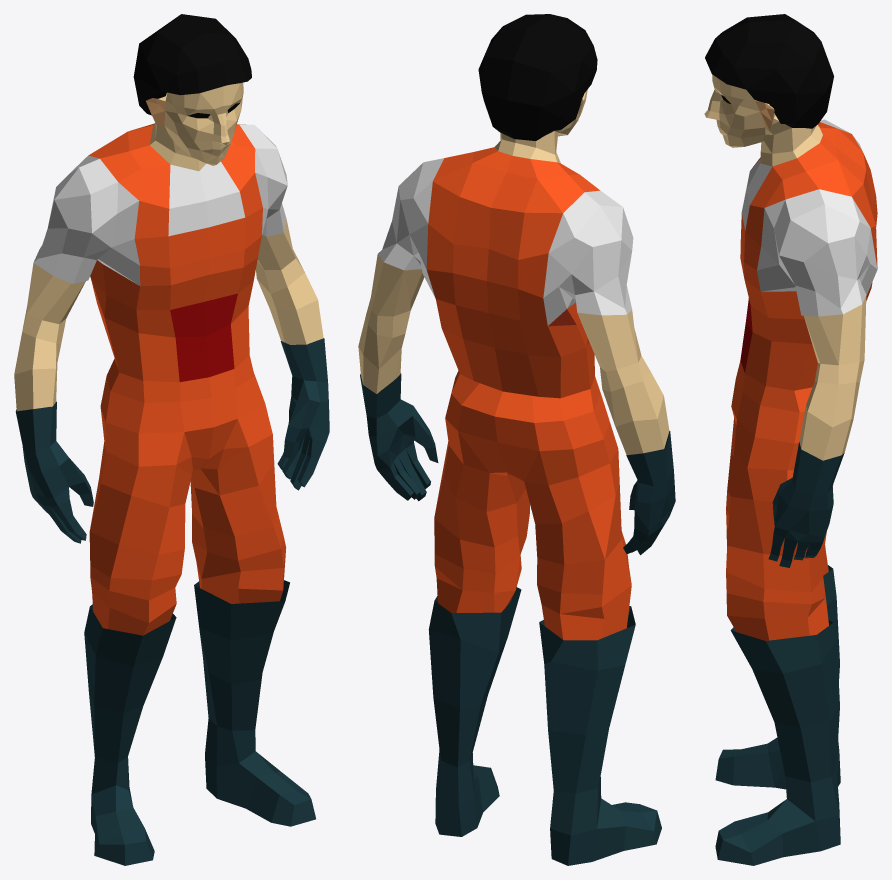
The model's file is Male_09.FBX.
3 views of the same model, side by side, from view 1: azimuth 30°, elevation 25°; view 2: azimuth 150°, elevation 25°; view 3: azimuth 270°, elevation 25° (orthographic).
Visible parts, largest first — view 1: Male_09; view 2: Male_09; view 3: Male_09.
Part boxes in pixels (left/top/right/bottom): Male_09: left=14, top=14, right=329, bottom=865; Male_09: left=358, top=14, right=675, bottom=865; Male_09: left=704, top=14, right=877, bottom=865.
Size of the model in its own units: 0.712 by 1.79 by 0.3544.
Materials: 1 (1 with a texture image).
